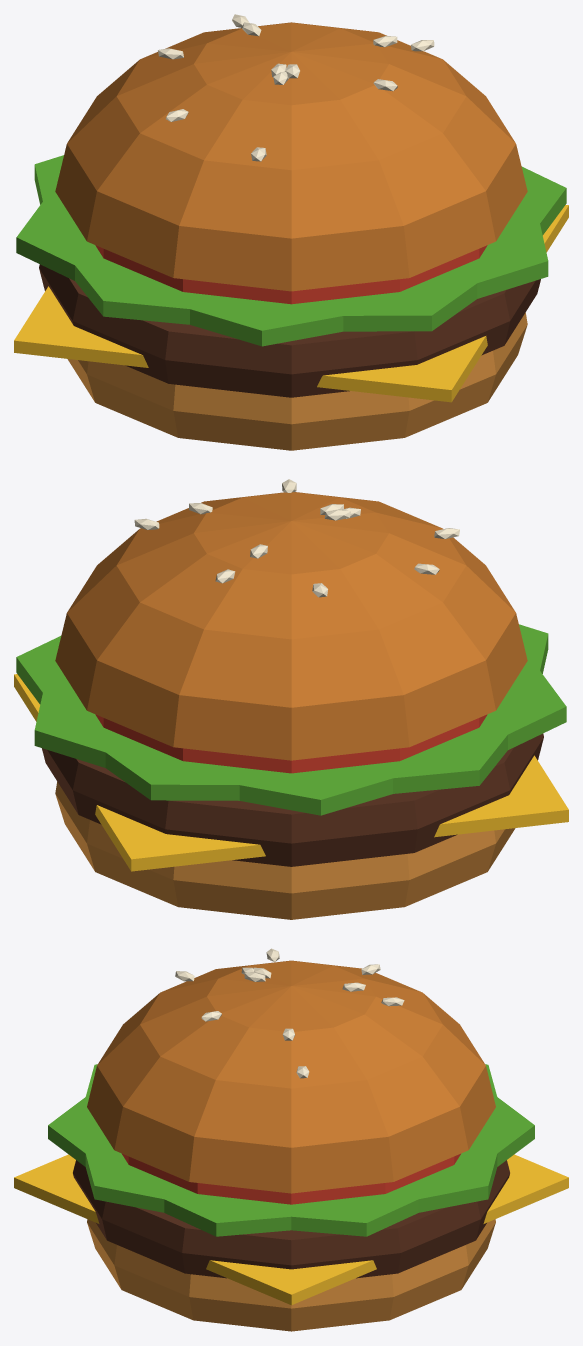
The model's file is burger.glb.
3 renders of one model, top to bottom at view 1: azimuth 30°, elevation 25°; view 2: azimuth 150°, elevation 25°; view 3: azimuth 270°, elevation 25°, orthographic. The views are drawn at different scales.
Parts seen in each view (by area): view 1: Burger; view 2: Burger; view 3: Burger.
Boxes of the visible parts, left/top/right/bottom form: Burger: left=14, top=14, right=568, bottom=450; Burger: left=14, top=479, right=568, bottom=919; Burger: left=14, top=948, right=568, bottom=1331.
Size of the model in its own units: 0.6647 by 0.3684 by 0.6647.
1 material, 1 textured.
